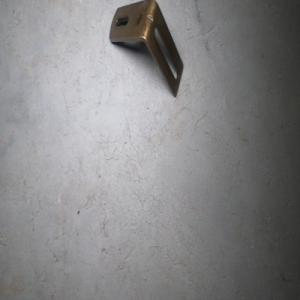MetalPart: (108, 0, 184, 98)
